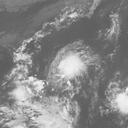cyclone: (55, 51, 88, 83)
